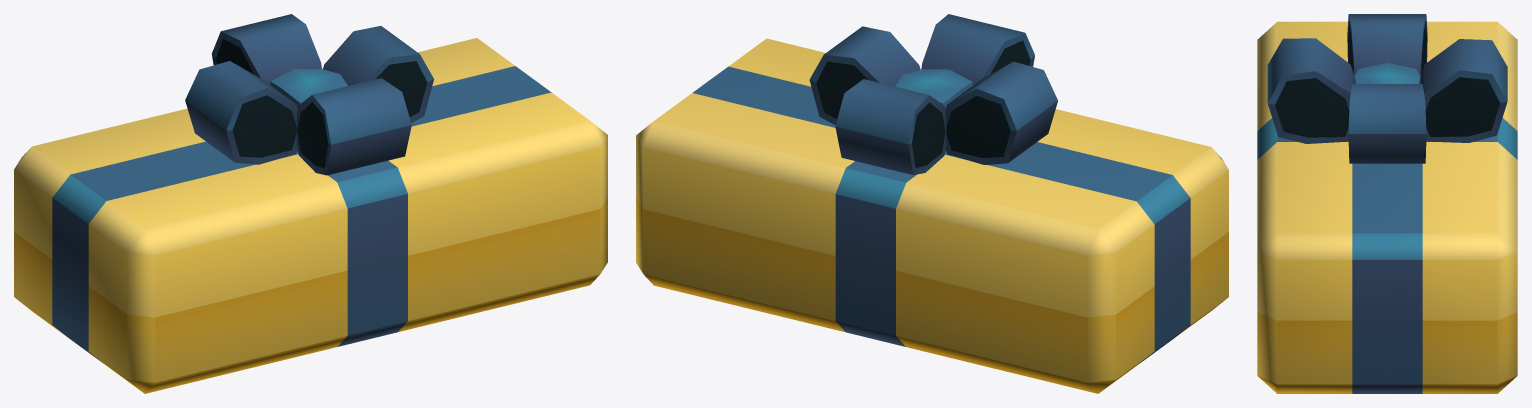
The model's file is presi_square_3_yellow.fbx.
The picture shows the model from 3 angles, left to right: view 1: azimuth 30°, elevation 25°; view 2: azimuth 150°, elevation 25°; view 3: azimuth 270°, elevation 25°; orthographic projection. The views are drawn at different scales.
Visible parts, largest first — view 1: presi_square_3_yellow; view 2: presi_square_3_yellow; view 3: presi_square_3_yellow.
Part boxes in pixels (left/top/right/bottom): presi_square_3_yellow: left=14, top=14, right=607, bottom=393; presi_square_3_yellow: left=636, top=14, right=1228, bottom=393; presi_square_3_yellow: left=1257, top=14, right=1517, bottom=393.
Bounding box in the file's own units: 156 × 74 × 75.
1 material, 1 textured.
